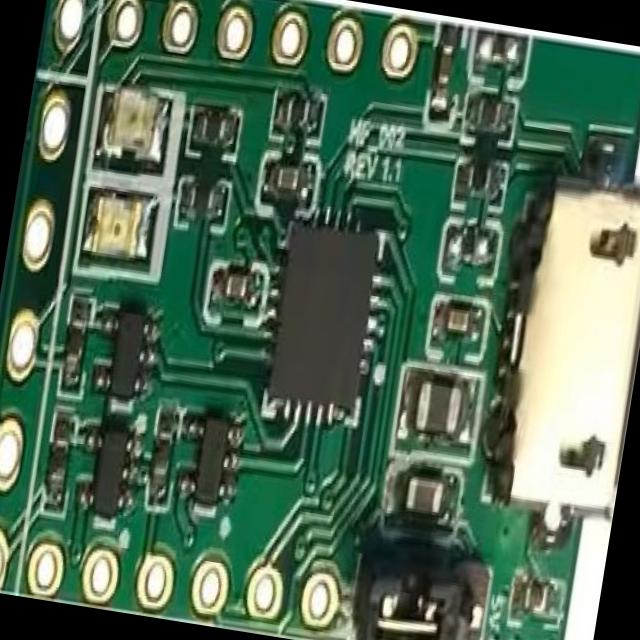IC: (257, 217, 391, 432), (178, 414, 246, 516), (94, 306, 155, 398), (80, 422, 136, 510)
LED: (81, 192, 159, 268), (100, 90, 170, 167)
capacitor: (411, 382, 467, 438), (398, 473, 448, 522), (436, 42, 454, 87), (224, 274, 252, 302), (445, 310, 474, 336), (276, 165, 302, 192)
connector: (484, 165, 640, 517), (351, 551, 494, 640)
resistor: (43, 434, 70, 496), (151, 428, 175, 490), (452, 232, 489, 266), (65, 316, 87, 366), (198, 115, 232, 146), (464, 166, 498, 197), (187, 186, 219, 217), (284, 100, 312, 134), (486, 38, 514, 64), (478, 100, 504, 127)
